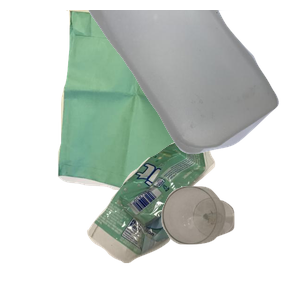glass: (159, 184, 300, 300)
paper: (55, 10, 255, 190)
plastic: (84, 10, 300, 157)
trash: (84, 133, 292, 300)
